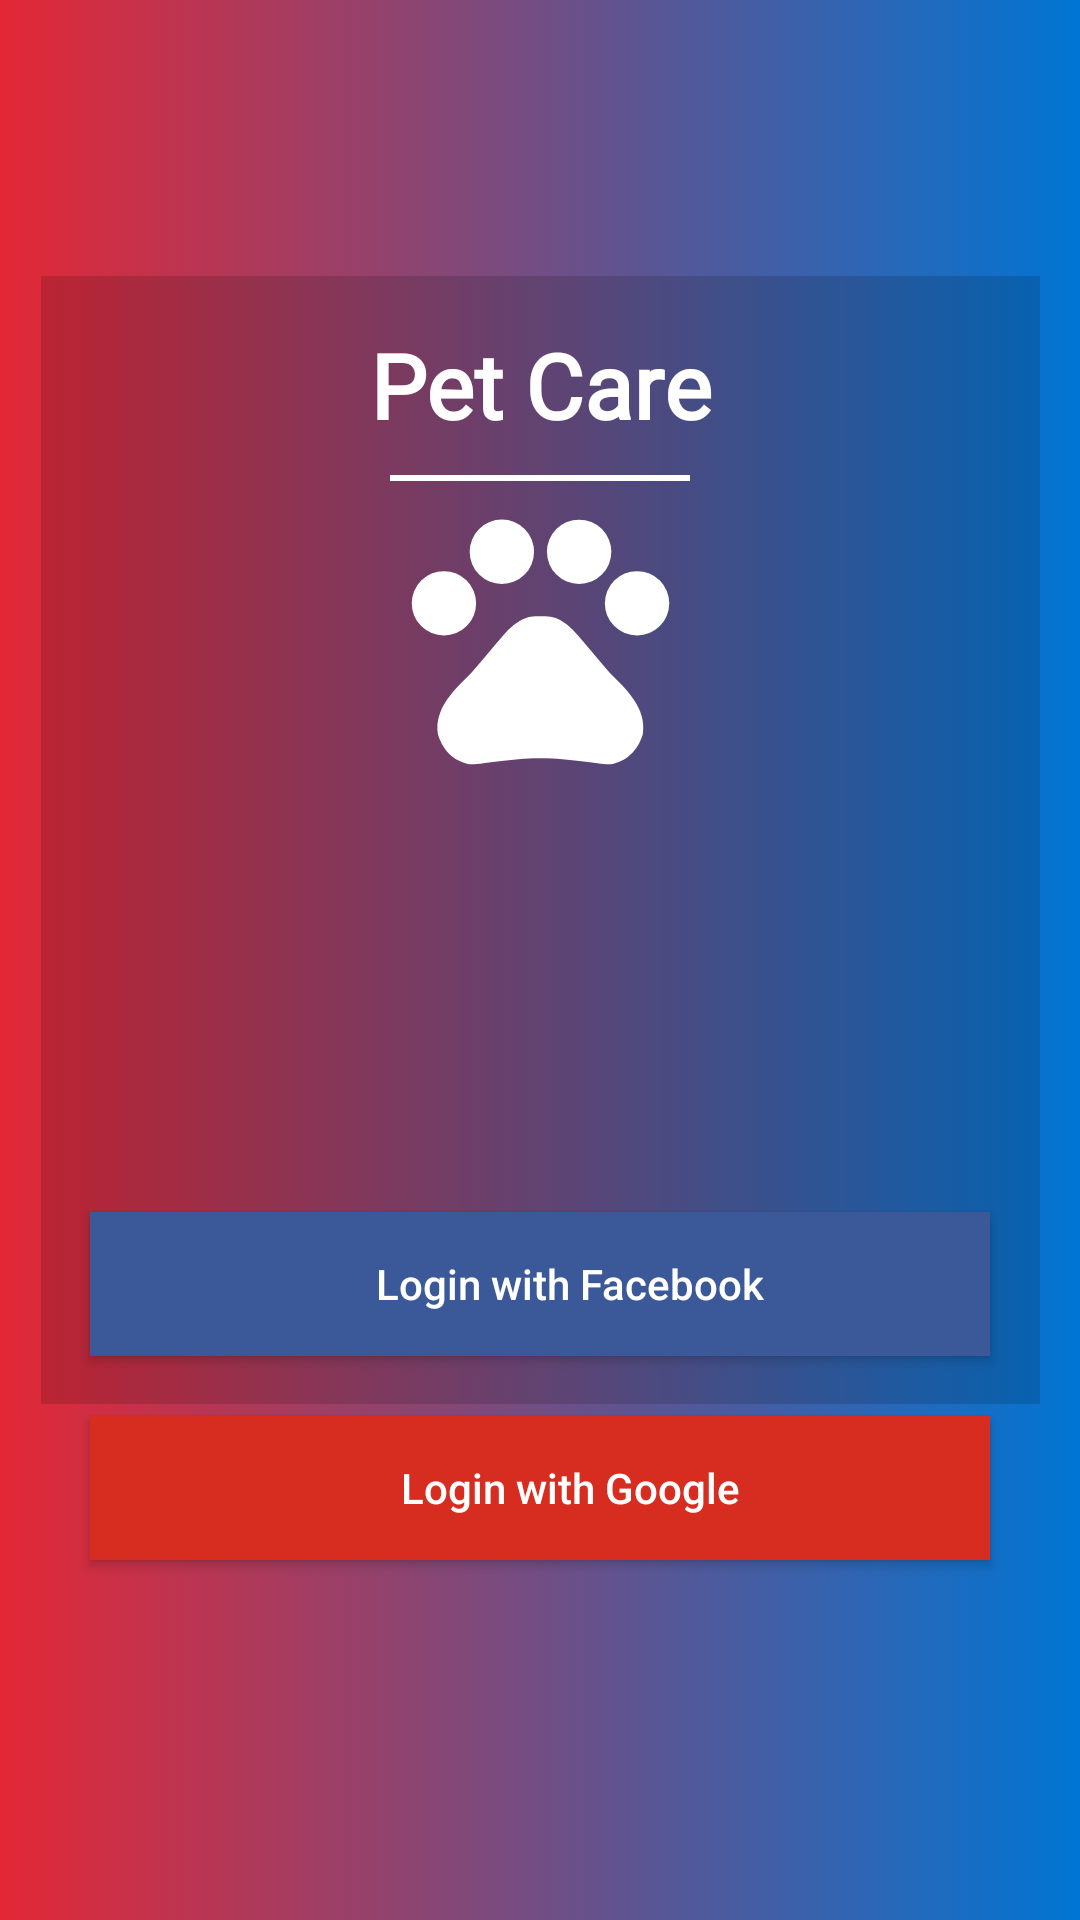

Icons on this 1080px x 1920px Android screen, each with the point to tap as [x,y]:
pets: [540,635]
